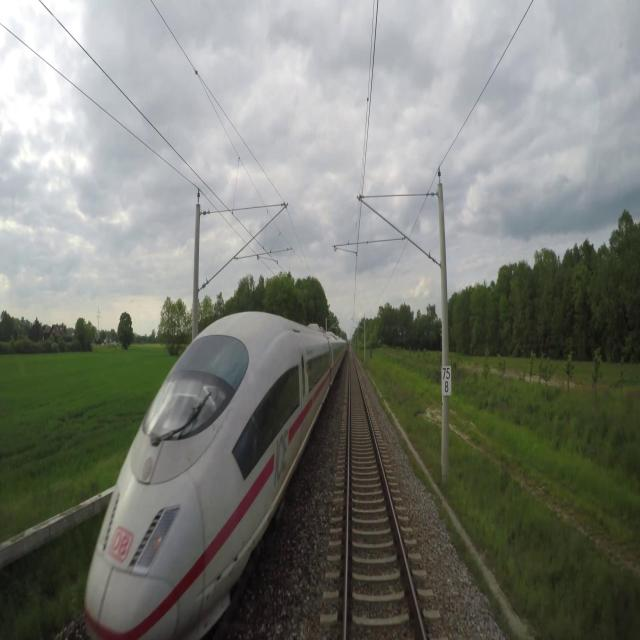rail-track: (348, 356, 422, 639)
